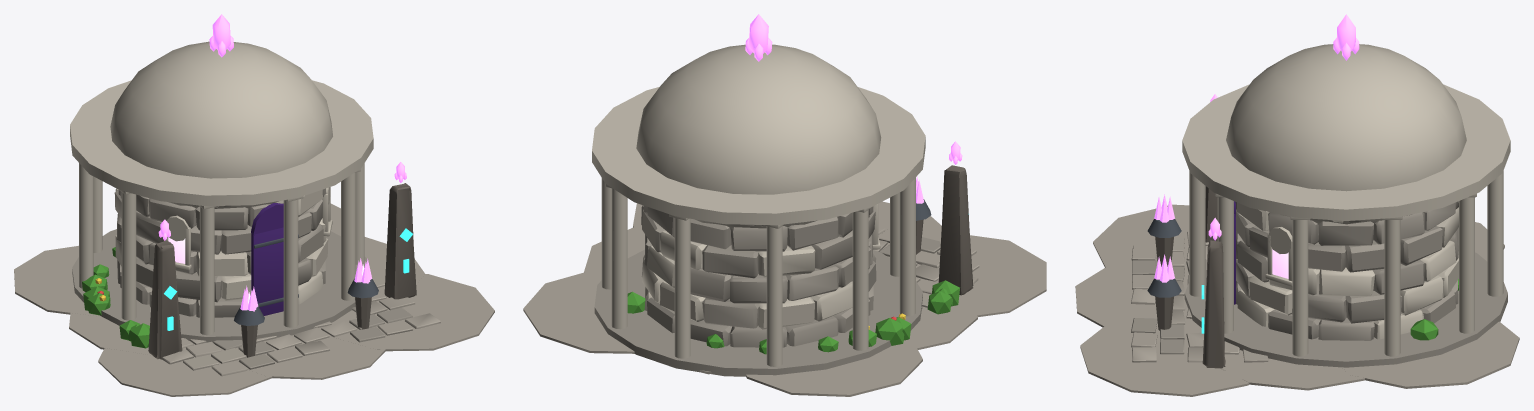
Rendered from budynek_fuzji_poz13.glb.
The picture shows the model from 3 angles, left to right: view 1: azimuth 30°, elevation 25°; view 2: azimuth 150°, elevation 25°; view 3: azimuth 270°, elevation 25°; orthographic projection. The views are drawn at different scales.
Parts seen in each view (by area): view 1: budynek_fuzji_poz13; view 2: budynek_fuzji_poz13; view 3: budynek_fuzji_poz13.
Boxes of the visible parts, <box> form: budynek_fuzji_poz13: <box>14,14,494,396</box>; budynek_fuzji_poz13: <box>523,14,1046,396</box>; budynek_fuzji_poz13: <box>1075,14,1519,396</box>.
Bounding box in the file's own units: 8.92 × 6.42 × 8.79.
